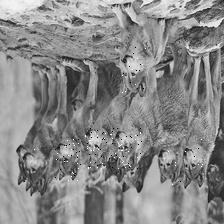WOLF: (181, 138, 211, 186), (121, 43, 146, 96), (113, 128, 143, 169), (85, 128, 113, 170), (54, 139, 80, 181), (23, 145, 46, 191), (155, 149, 183, 185)
